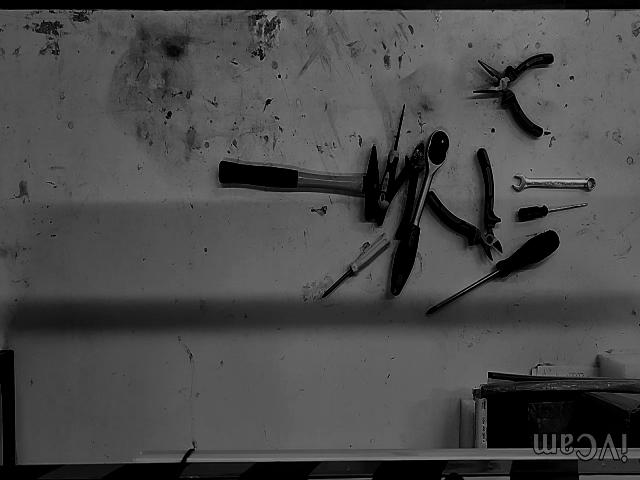Cutting pliers: (428, 148, 503, 262), (376, 142, 425, 240)
Hammer: (219, 144, 380, 218)
Needle-nose pliers: (472, 52, 553, 137)
Ratchet: (390, 130, 449, 297)
Screwdriver: (428, 230, 560, 314), (322, 233, 390, 299), (378, 104, 406, 209), (519, 203, 588, 219)
Wrench: (512, 173, 595, 192)
